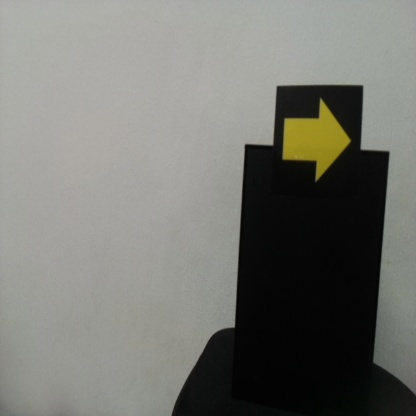id_3: (276, 87, 361, 191)
